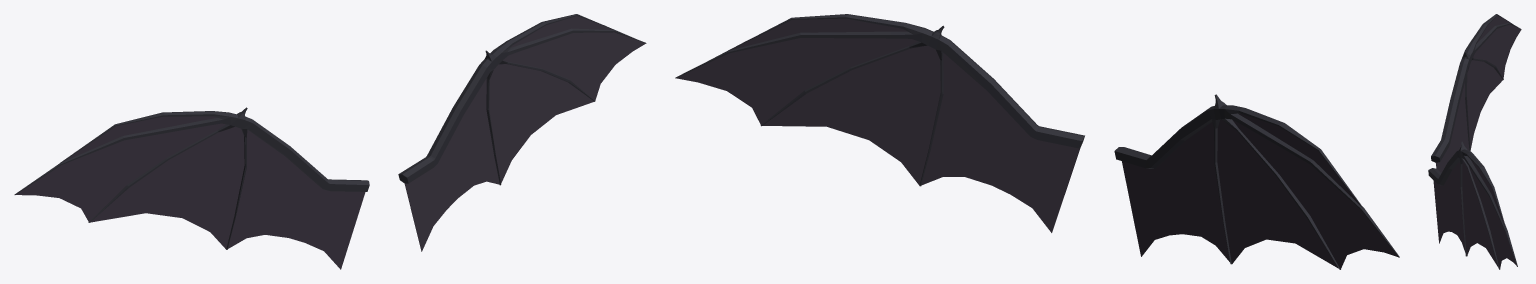
The model's file is bat_wings.glb.
The picture shows the model from 3 angles, left to right: view 1: azimuth 30°, elevation 25°; view 2: azimuth 150°, elevation 25°; view 3: azimuth 270°, elevation 25°; orthographic projection. The views are drawn at different scales.
Parts seen in each view (by area): view 1: bat_wings; view 2: bat_wings; view 3: bat_wings.
Part boxes in pixels (<box>): bat_wings: <box>14,14,646,269</box>; bat_wings: <box>675,14,1399,269</box>; bat_wings: <box>1428,14,1521,269</box>.
Size of the model in its own units: 3.05 by 0.7993 by 0.5072.
1 material, 1 textured.
